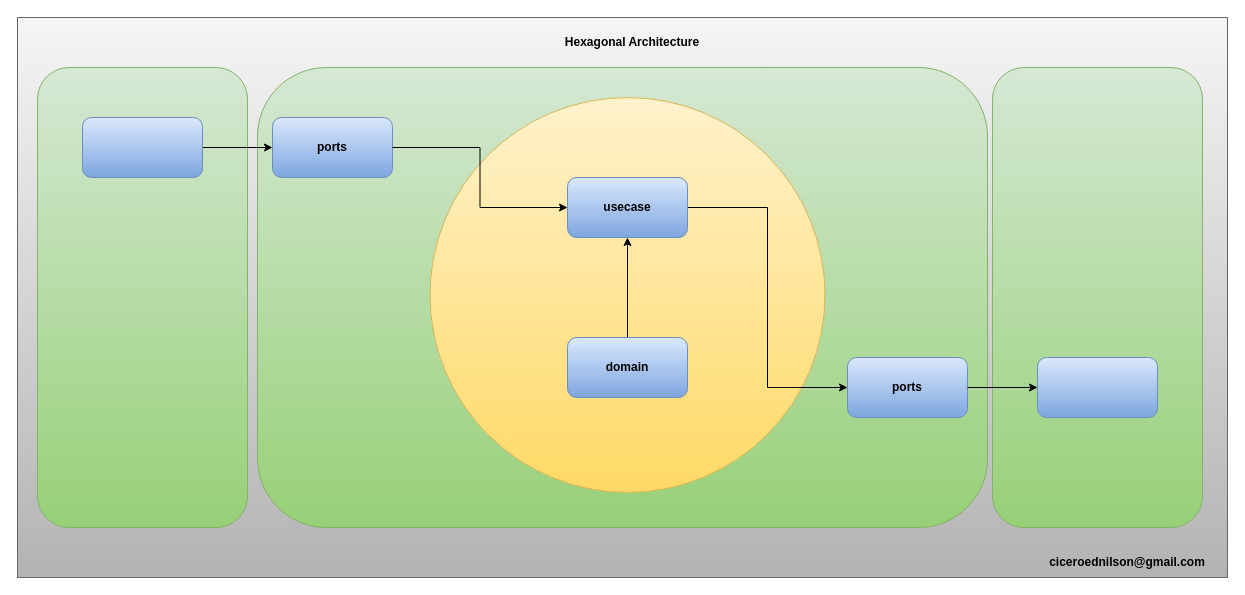
Some shapes in this 1245 by 595 pixel diagram are drawn without their labels. Here are the shapes that lost their labels. From the top down, the centre of each, then its label:
At (142,147): "consumer".
At (1097,387): "repository".
